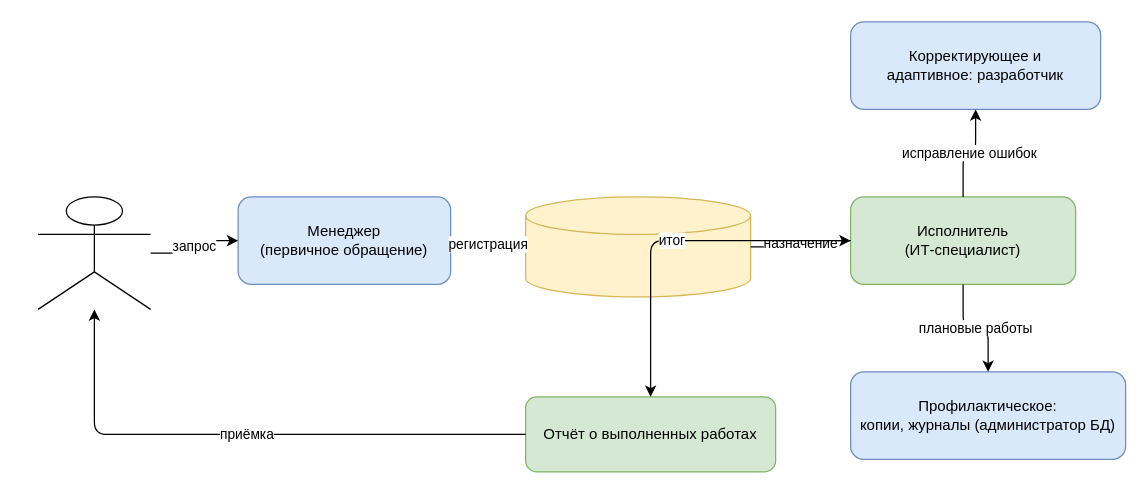
The diagram is 1148 pixels wide and 494 high, and some of its shapes have lost their labels. Each missing label, with the centre of its shape:
"Журнал обращений (приоритет по SLA)" belongs at [637,246].
"Заказчик (владелец магазина)" belongs at [94,252].
